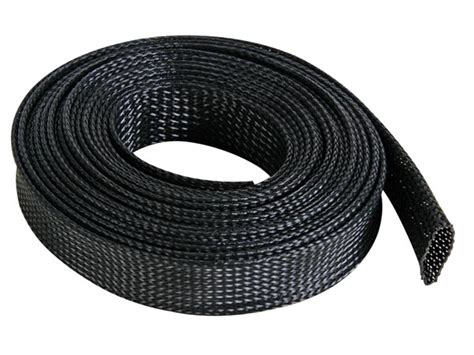nylon: (11, 35, 456, 315)
